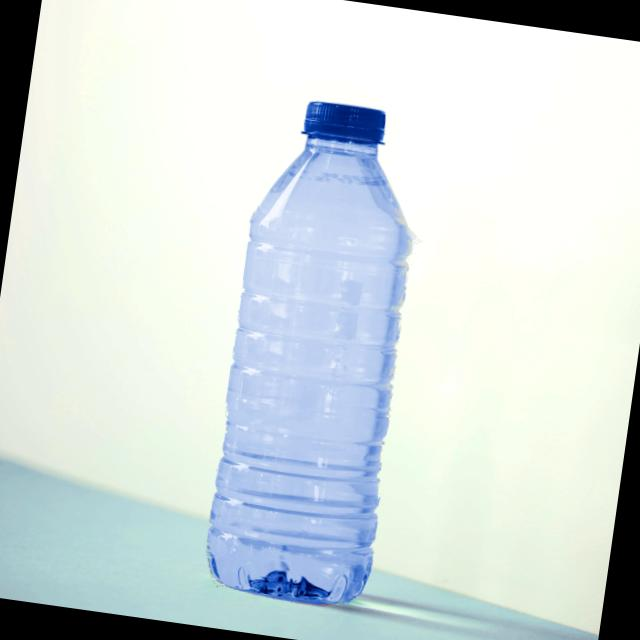plastic_bottle: (157, 64, 451, 614)
